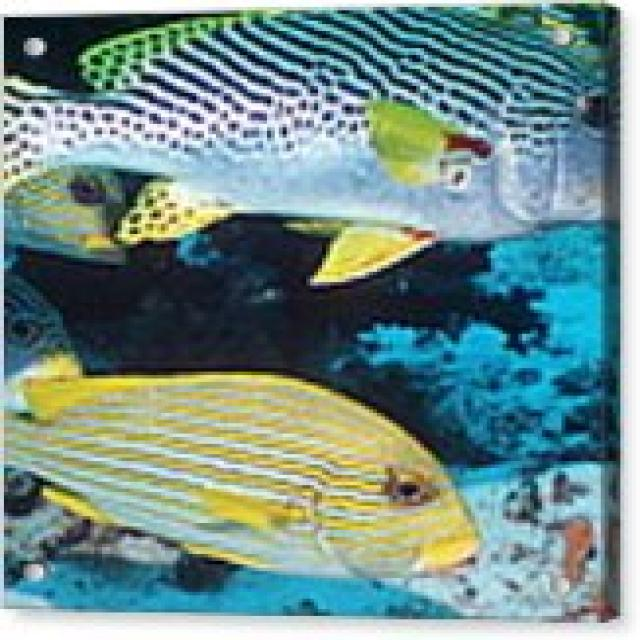RibbonedSweetlips: (0, 368, 483, 578)
